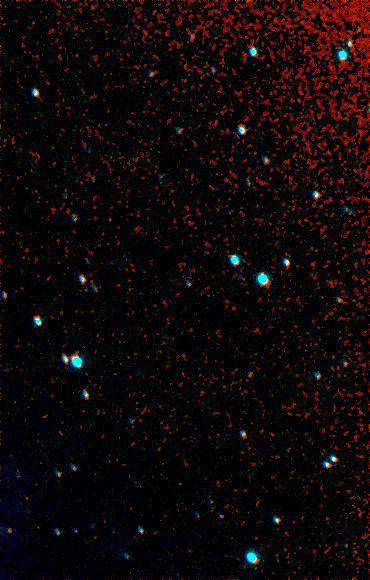star: (0, 515, 28, 545)
